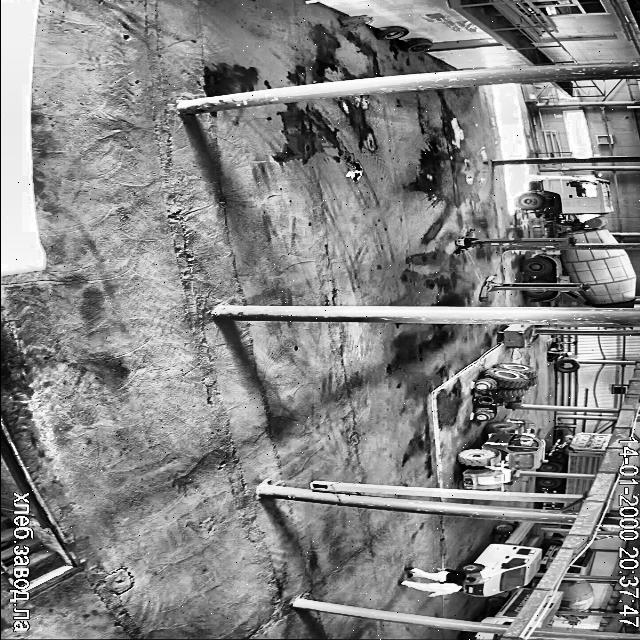class4: (404, 567, 475, 584), (398, 580, 463, 596)
class6: (458, 419, 546, 489), (474, 362, 537, 420)
class7: (516, 176, 614, 244), (523, 248, 636, 306), (460, 521, 540, 596), (540, 432, 612, 473), (482, 588, 532, 624), (559, 580, 595, 611), (538, 476, 591, 494), (538, 592, 562, 628), (567, 548, 595, 574), (543, 536, 563, 571), (543, 500, 580, 510), (463, 632, 500, 640), (564, 616, 587, 624)
tractor: (340, 16, 372, 24)
truck: (455, 229, 574, 252), (479, 275, 588, 300)
